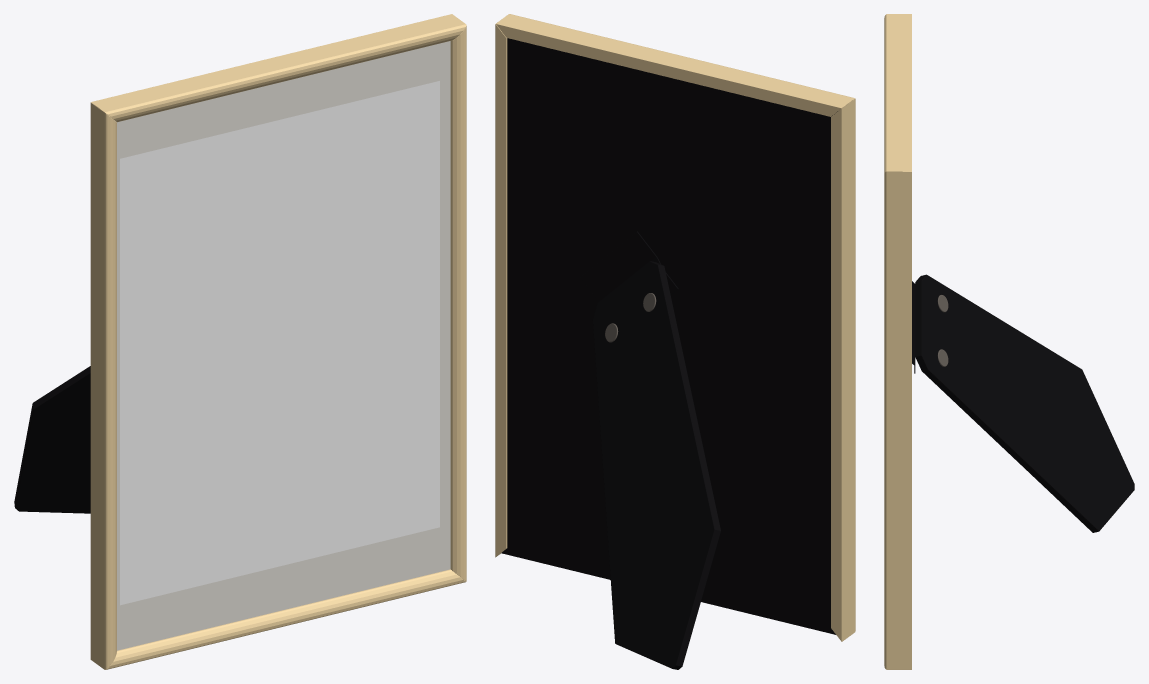
The model's file is desk-portrait-frame.glb.
3 views of the same model, side by side, from view 1: azimuth 30°, elevation 25°; view 2: azimuth 150°, elevation 25°; view 3: azimuth 270°, elevation 25° (orthographic). The views are drawn at different scales.
Parts seen in each view (by area): view 1: Fine gold portrait frame; view 2: Fine gold portrait frame; view 3: Fine gold portrait frame.
Part boxes in pixels (bbox=[...]): Fine gold portrait frame: bbox=[14, 14, 466, 669]; Fine gold portrait frame: bbox=[495, 14, 855, 669]; Fine gold portrait frame: bbox=[884, 14, 1134, 669].
Size of the model in its own units: 0.1074 by 0.1582 by 0.0721.
